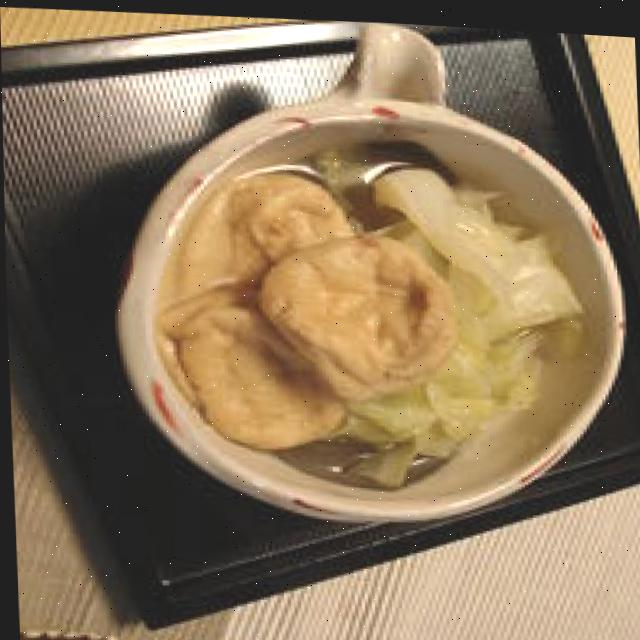熟制海鲜: (130, 123, 492, 502)
